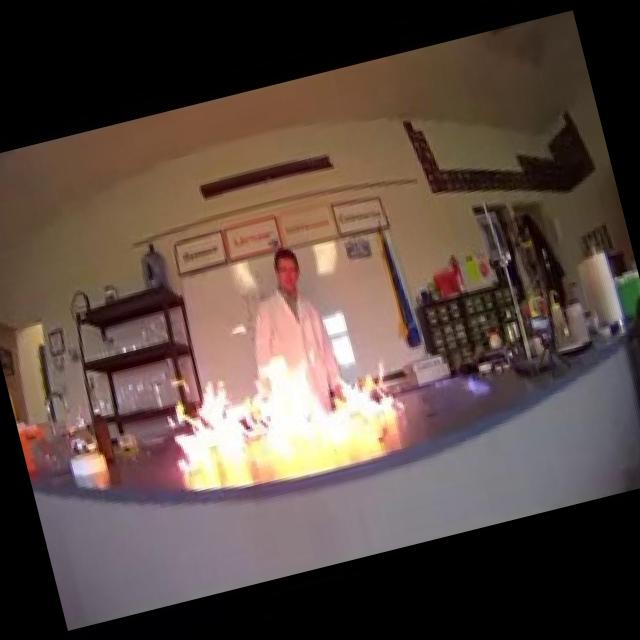Fire: (152, 318, 408, 479)
